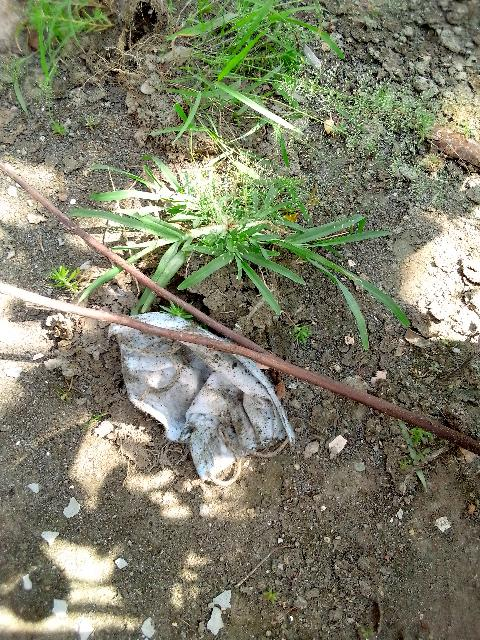mask: (149, 295, 268, 473)
